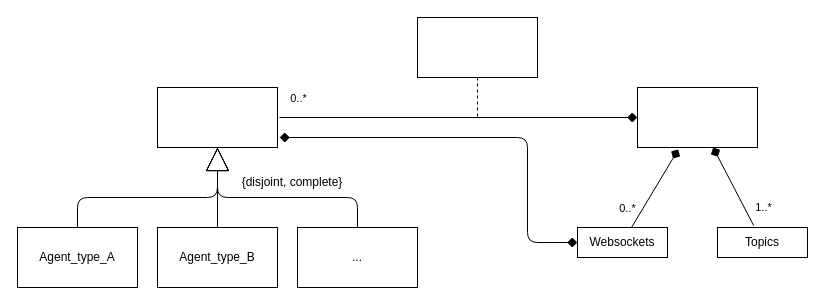
This 825x305 diagram has some shape labels left out. Each missing label, with the box of its shape:
Agent: (156, 86, 278, 148)
Event: (416, 16, 538, 78)
Fleet_manager: (636, 86, 758, 148)
